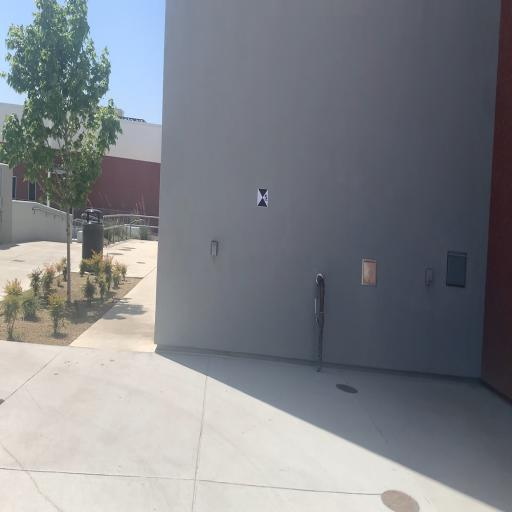target5: (257, 188, 268, 207)
